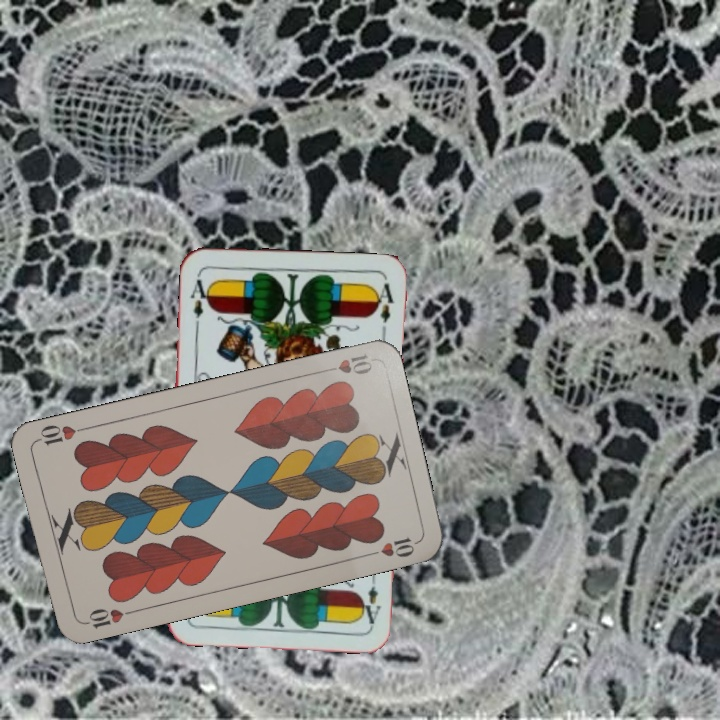EA: (185, 270, 213, 329), (357, 569, 383, 627)
H10: (78, 604, 137, 631), (317, 350, 375, 377)
